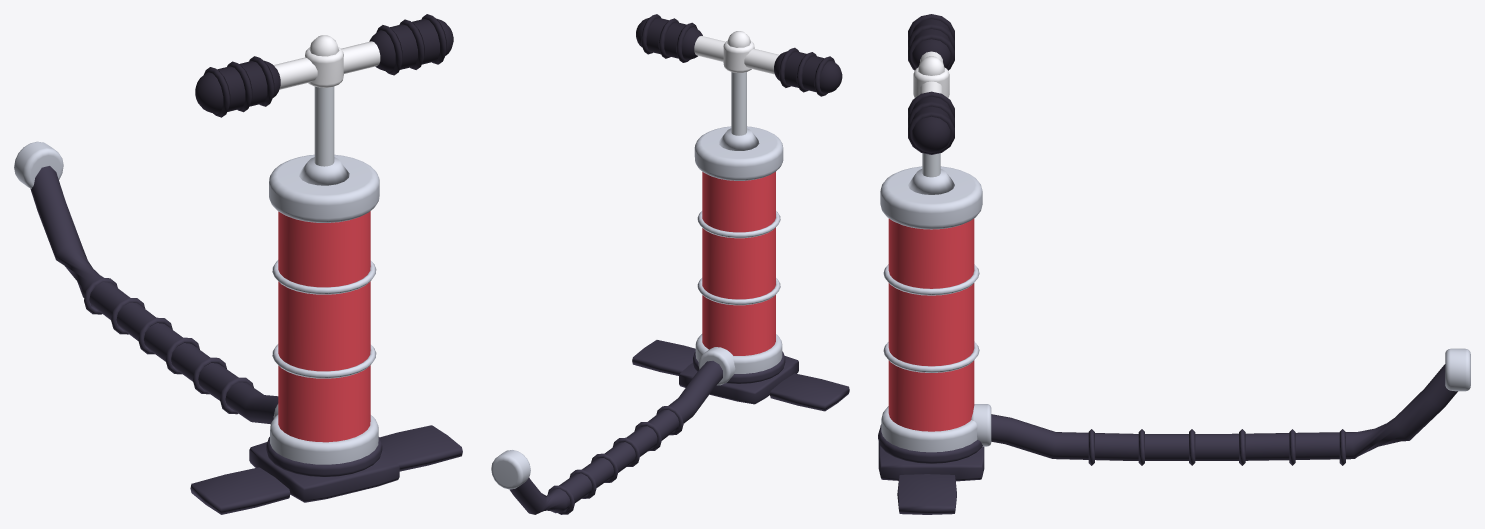
Rendered from Plunger.obj.
3 renders of one model, left to right at view 1: azimuth 30°, elevation 25°; view 2: azimuth 150°, elevation 25°; view 3: azimuth 270°, elevation 25°, orthographic. The views are drawn at different scales.
Visible parts, largest first — view 1: Barrel, Chrome, Hose, PumpBase, Grips, Handle, Rod; view 2: Barrel, Chrome, Hose, PumpBase, Grips, Handle, Rod; view 3: Barrel, Hose, Chrome, PumpBase, Grips, Handle.
Boxes of the visible parts, x1=… form: Barrel: x1=278, y1=211, x2=370, y2=442; Chrome: x1=14, y1=141, x2=379, y2=464; Hose: x1=30, y1=166, x2=278, y2=424; PumpBase: x1=190, y1=425, x2=462, y2=514; Grips: x1=195, y1=14, x2=453, y2=117; Handle: x1=273, y1=35, x2=380, y2=89; Rod: x1=314, y1=86, x2=334, y2=166; Barrel: x1=702, y1=172, x2=775, y2=355; Chrome: x1=491, y1=126, x2=783, y2=489; Hose: x1=510, y1=361, x2=722, y2=514; PumpBase: x1=632, y1=340, x2=849, y2=411; Grips: x1=636, y1=14, x2=842, y2=96; Handle: x1=694, y1=31, x2=779, y2=74; Rod: x1=731, y1=72, x2=746, y2=135; Barrel: x1=888, y1=218, x2=974, y2=431; Hose: x1=991, y1=364, x2=1457, y2=465; Chrome: x1=880, y1=166, x2=1470, y2=452; PumpBase: x1=878, y1=424, x2=984, y2=514; Grips: x1=908, y1=14, x2=954, y2=154; Handle: x1=913, y1=51, x2=949, y2=97.
Size of the model in its own units: 2.52 by 4.2 by 5.55.
